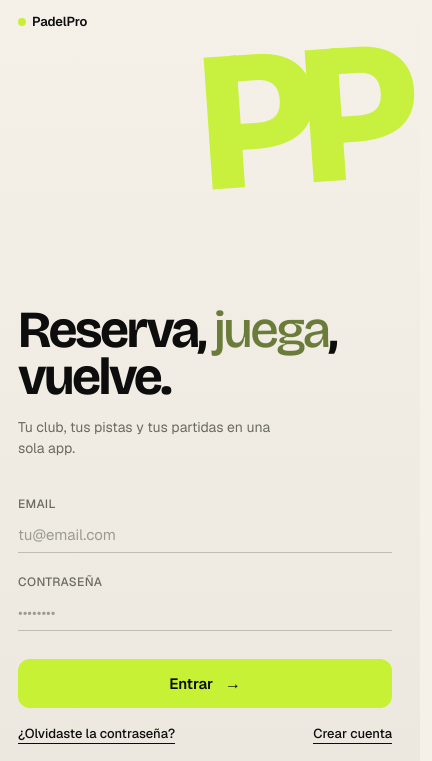
Test: LoginPage — UX de acceso (acceso-cuenta-prod) › 7.2 — maps 401 to invalid credentials
Type "x@test.com" into the field labelled "Email". click: point(205, 534)
box: [18,516,392,552]
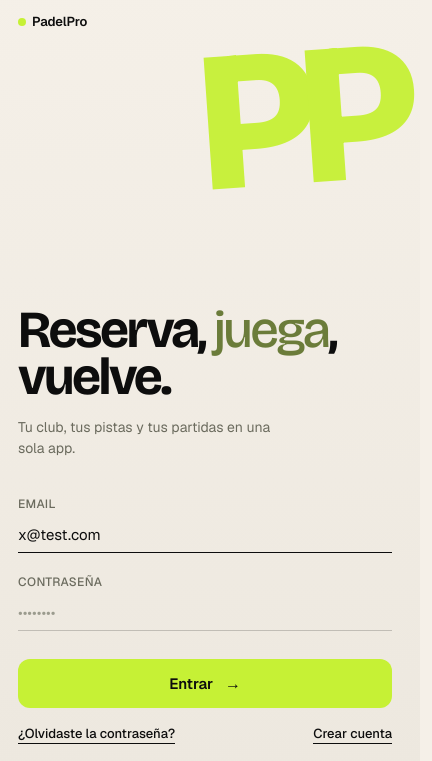
Type "bad" into the password field labelled "Contraseña". click: point(205, 612)
box: [18,594,392,630]
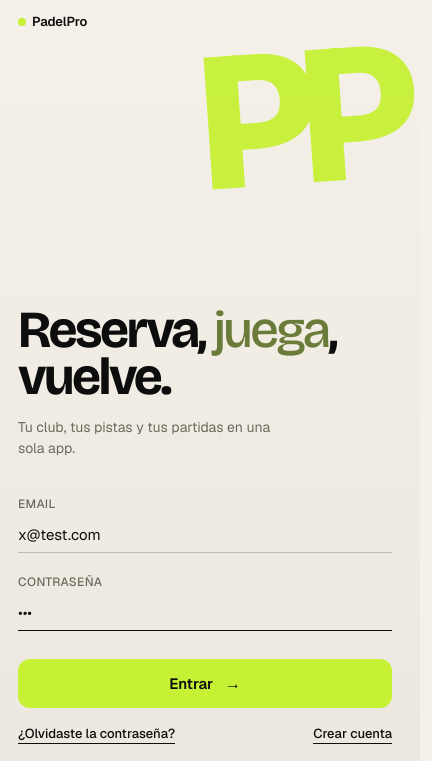
Click the button "Entrar →". click: point(205, 683)
box: [18,658,392,708]
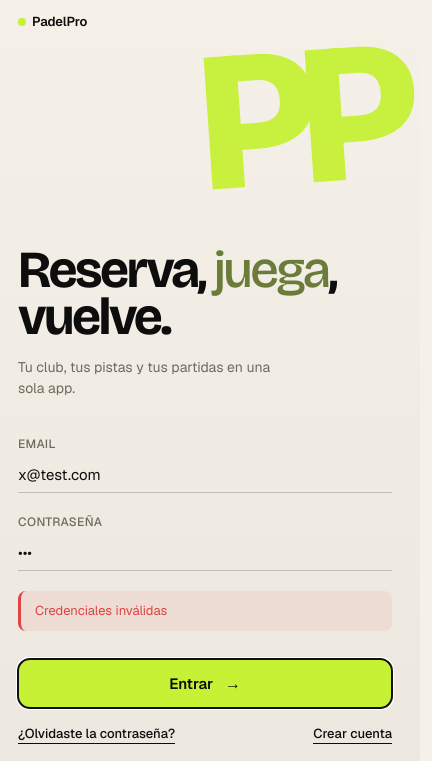
expect the message reads "Credenciales inválidas": met, box [35,602,167,619]
